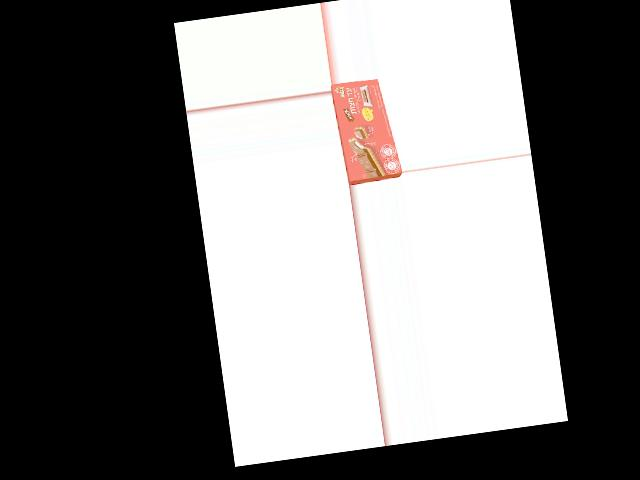chocolate: (334, 76, 397, 184)
